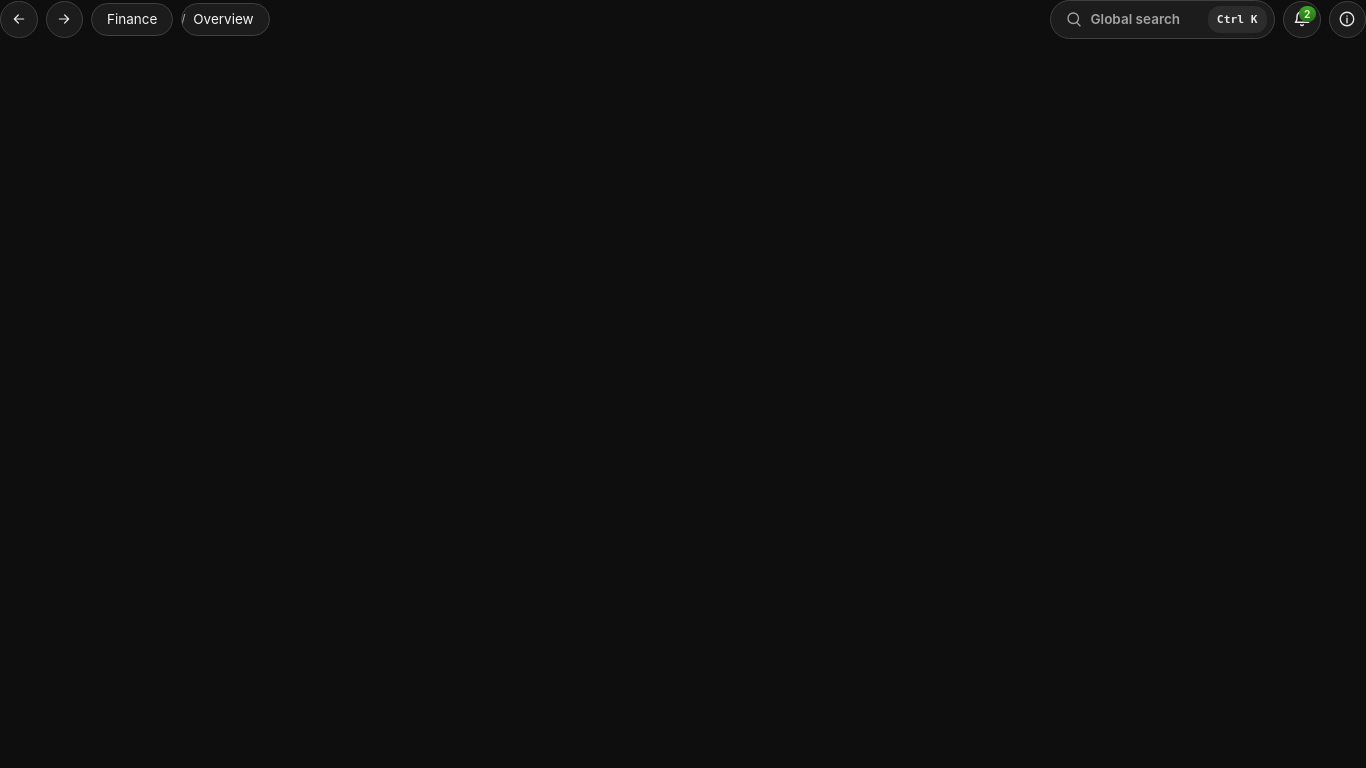
Test: notifications in the top bar › shows the unread count from the server, lists the latest, and marks all read through the server
Step 1. Click the button named "Notifications, 2 unread" → x=1302, y=19, box top-left (1283, 1), bottom-right (1320, 38)
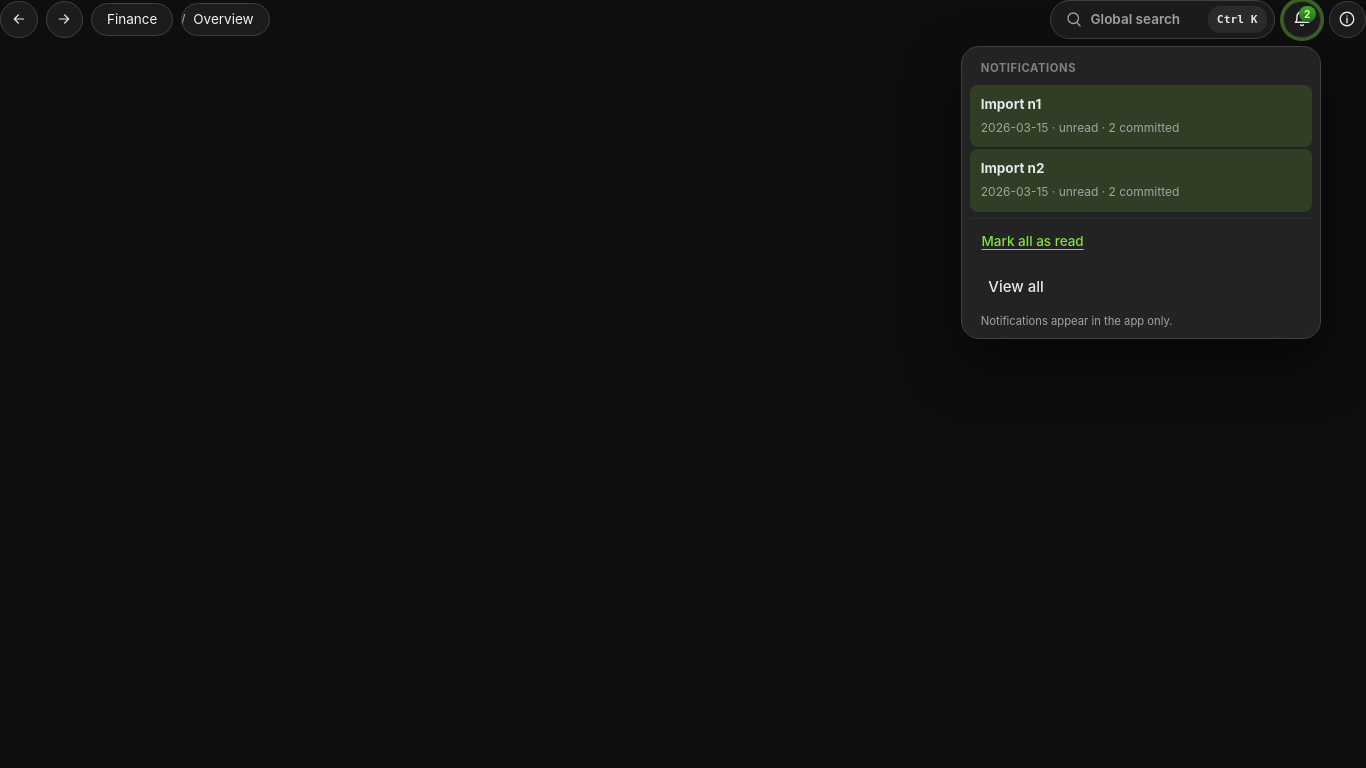
Result: the text "Import n1" is shown at top-left (981, 96), bottom-right (1041, 112)
Result: the text "Notifications appear in the app only." is shown at top-left (981, 314), bottom-right (1173, 328)
Step 2. Click the button "Mark all as read" → x=1033, y=242, box top-left (977, 228), bottom-right (1088, 255)
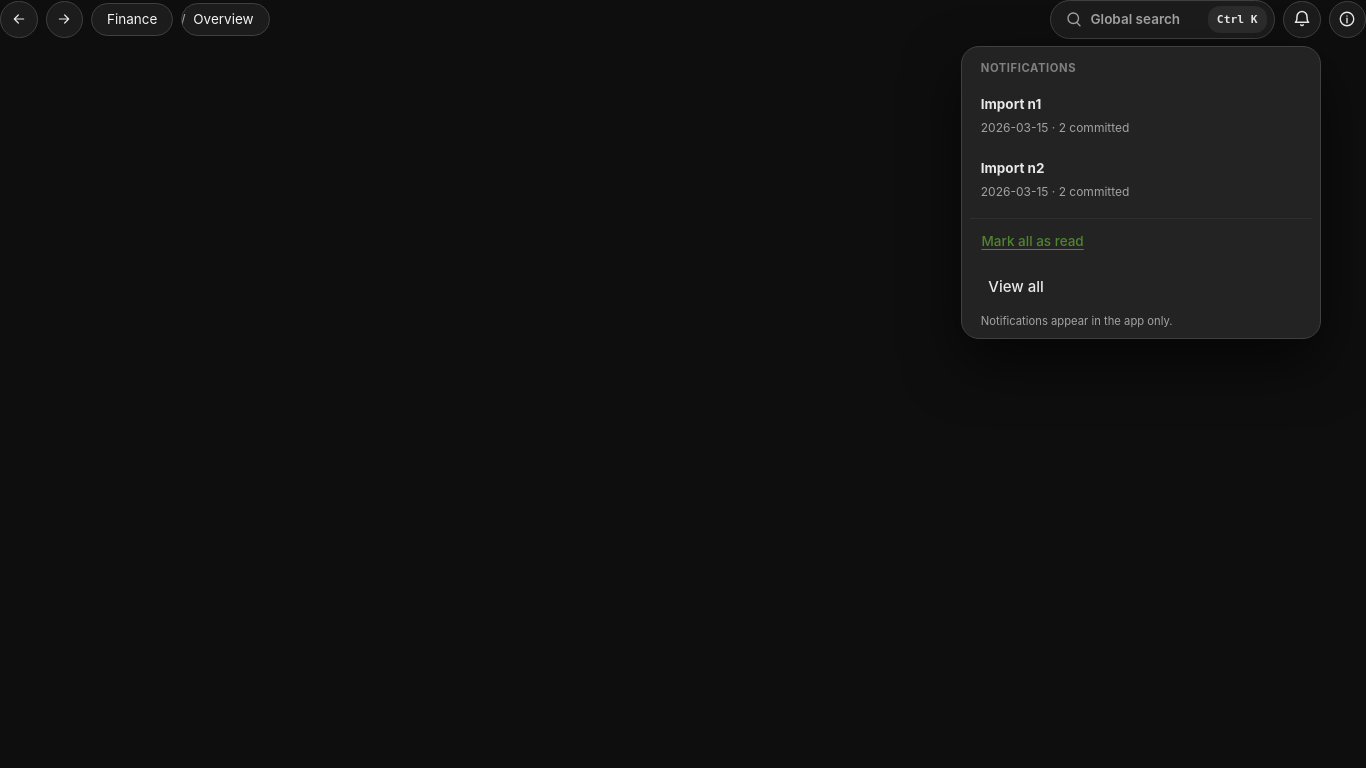
Expected: the button named "Notifications" is shown, top-left (1283, 1), bottom-right (1320, 38)
Result: the button "Mark all as read" is disabled at top-left (977, 228), bottom-right (1088, 255)
Step 3. Press Escape
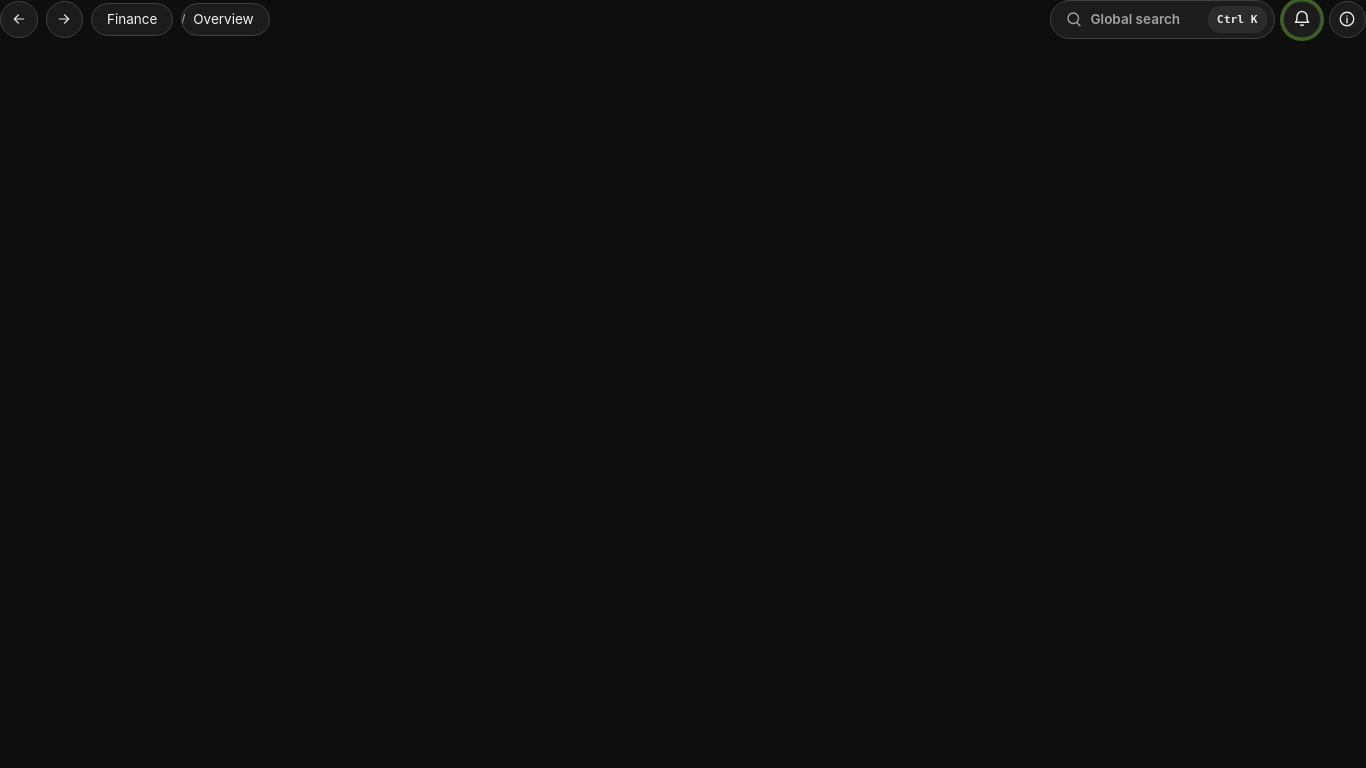
Result: the text "Notifications" is gone
